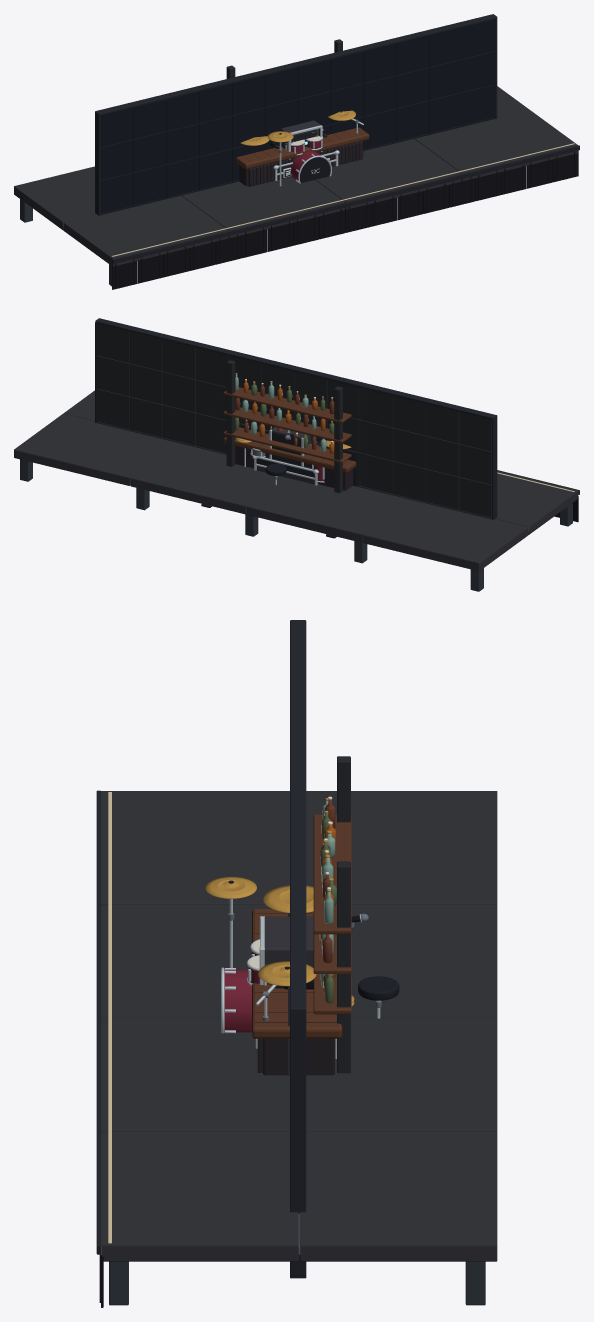
File: club-props.glb
3 views of the same model, one above another, from view 1: azimuth 30°, elevation 25°; view 2: azimuth 150°, elevation 25°; view 3: azimuth 270°, elevation 25° (orthographic). The views are drawn at different scales.
Visible parts, largest first — view 1: deck surfaces, led-wall surfaces, bar surfaces, drum-kit surfaces, shared-touring-rack surfaces; view 2: led-wall surfaces, deck surfaces, bar surfaces, shared-flight-case surfaces, shared-touring-rack surfaces, drum-kit surfaces; view 3: deck surfaces, bar surfaces, led-wall surfaces, drum-kit surfaces, shared-touring-rack surfaces.
Boxes of the visible parts, x1,y1,x2,y2 form: deck surfaces: (14, 86, 579, 289); led-wall surfaces: (95, 14, 497, 215); bar surfaces: (226, 39, 369, 186); drum-kit surfaces: (240, 110, 363, 186); shared-touring-rack surfaces: (281, 120, 322, 159); led-wall surfaces: (95, 318, 497, 519); deck surfaces: (14, 390, 579, 591); bar surfaces: (223, 360, 356, 493); shared-flight-case surfaces: (252, 455, 318, 485); shared-touring-rack surfaces: (269, 427, 311, 466); drum-kit surfaces: (201, 437, 351, 538); deck surfaces: (96, 790, 497, 1307); bar surfaces: (252, 756, 351, 1075); led-wall surfaces: (290, 620, 306, 1278); drum-kit surfaces: (205, 876, 399, 1058); shared-touring-rack surfaces: (259, 916, 313, 984).
Size of the model in its own units: 9.22 by 2.58 by 3.43.
